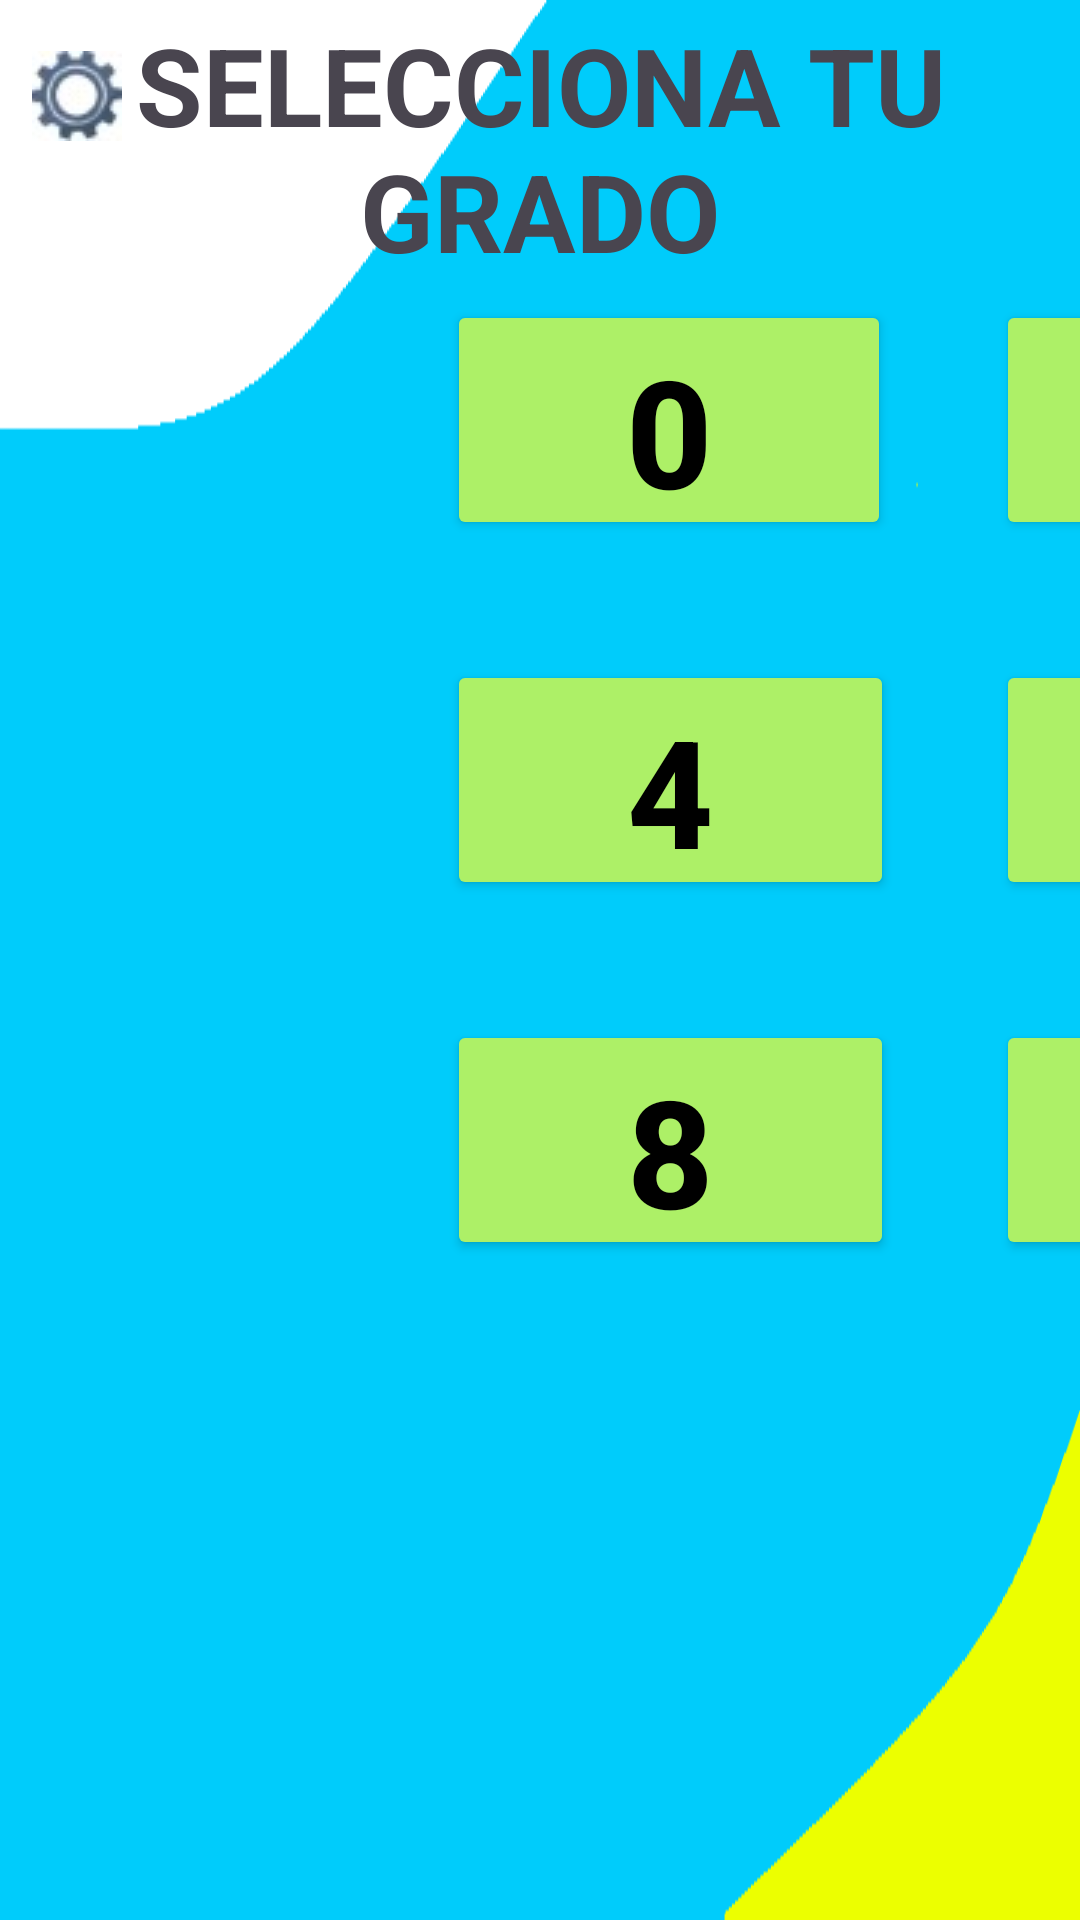

Where to tap for icons on this 1080 x 1920 app screen, as (x=x, y=y):
confi personalizado: (x=77, y=96)
